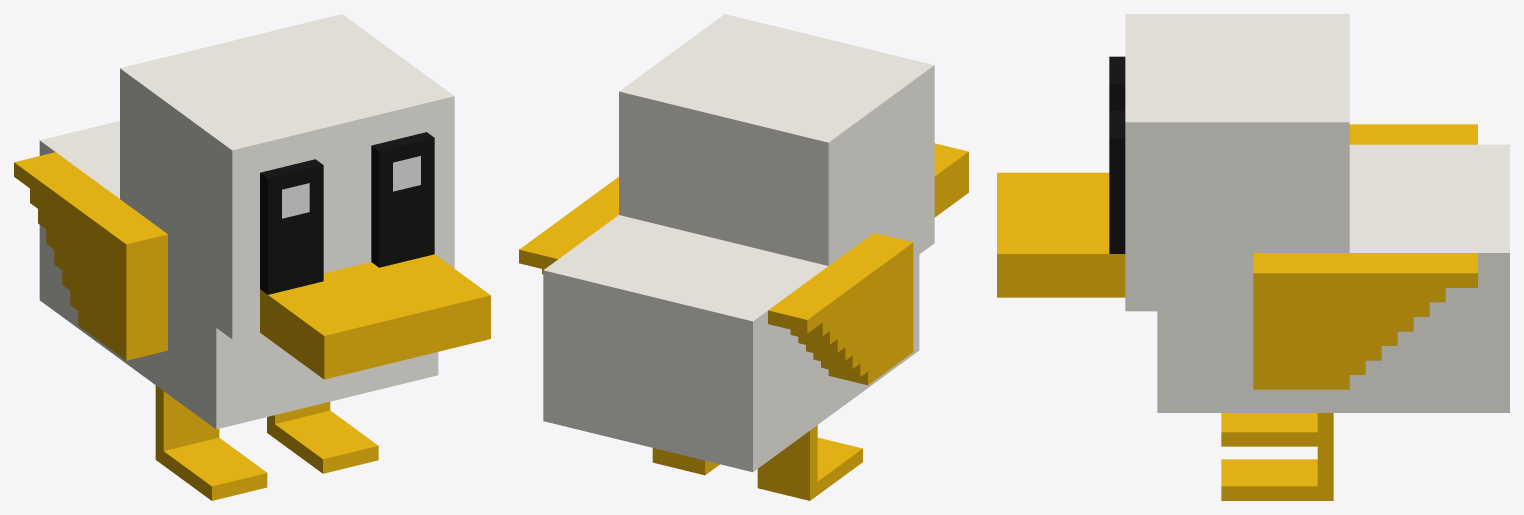
File: Duck.obj
3 renders of one model, left to right at view 1: azimuth 30°, elevation 25°; view 2: azimuth 150°, elevation 25°; view 3: azimuth 270°, elevation 25°, orthographic. The views are drawn at different scales.
Parts seen in each view (by area): view 1: Duck; view 2: Duck; view 3: Duck.
Part boxes in pixels (bbox=[...]): Duck: bbox=[14, 14, 490, 500]; Duck: bbox=[519, 14, 968, 500]; Duck: bbox=[997, 14, 1509, 500].
Size of the model in its own units: 22 by 27 by 32.
1 material, 1 textured.
